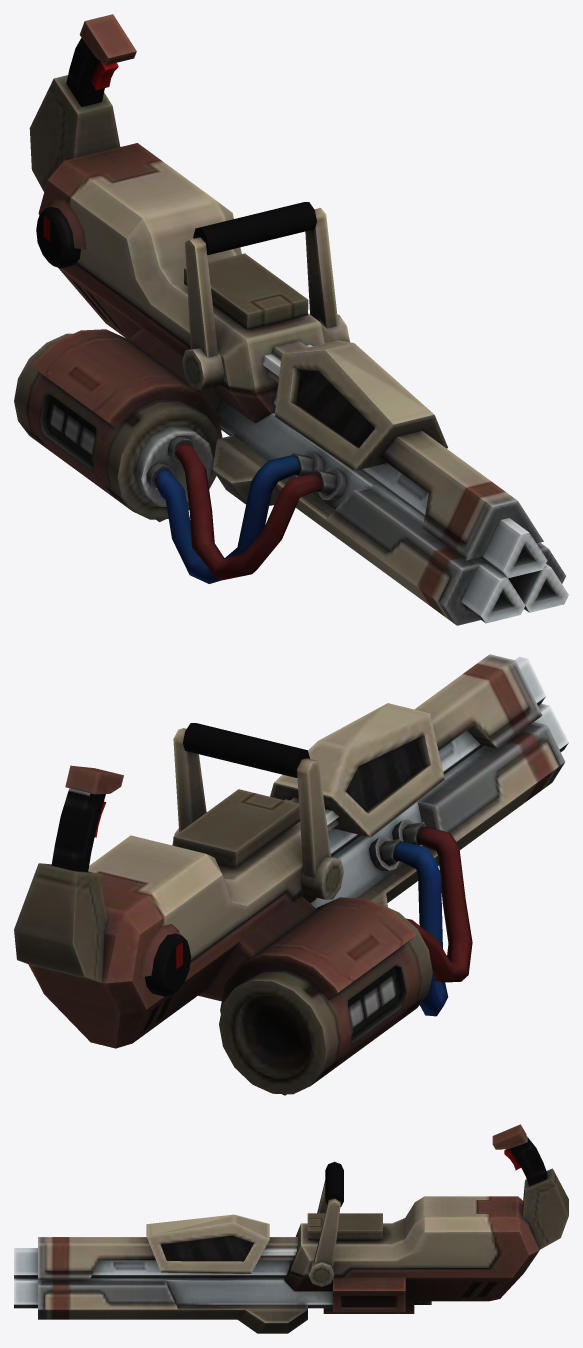
The model's file is SM_Weapon_Jagger_Machinegun_compressed.glb.
3 views of the same model, one above another, from view 1: azimuth 30°, elevation 25°; view 2: azimuth 150°, elevation 25°; view 3: azimuth 270°, elevation 25° (orthographic). The views are drawn at different scales.
Parts seen in each view (by area): view 1: SM_Weapon_Jagger_Machinegun; view 2: SM_Weapon_Jagger_Machinegun; view 3: SM_Weapon_Jagger_Machinegun.
Boxes of the visible parts, x1,y1,x2,y2 form: SM_Weapon_Jagger_Machinegun: [14, 14, 568, 625]; SM_Weapon_Jagger_Machinegun: [14, 654, 568, 1095]; SM_Weapon_Jagger_Machinegun: [14, 1124, 568, 1333].
Size of the model in its own units: 0.4402 by 0.6452 by 1.48.
1 material, 1 textured.
